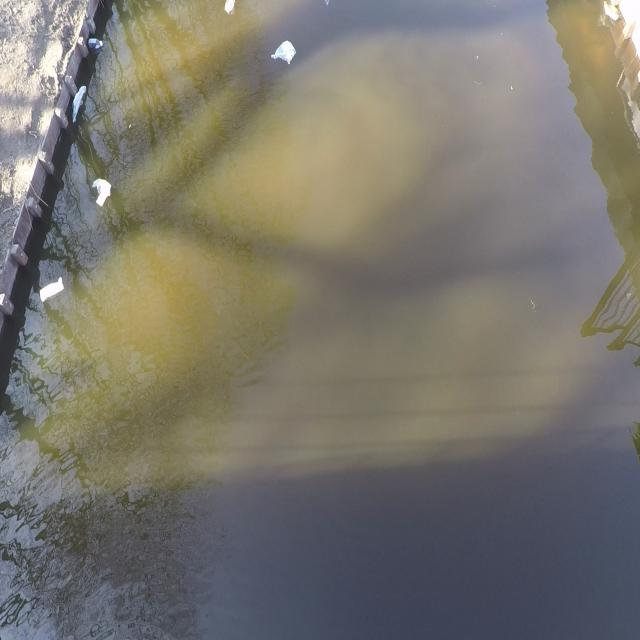Sac plastique: (267, 36, 302, 70), (70, 79, 87, 135), (92, 168, 112, 210)
